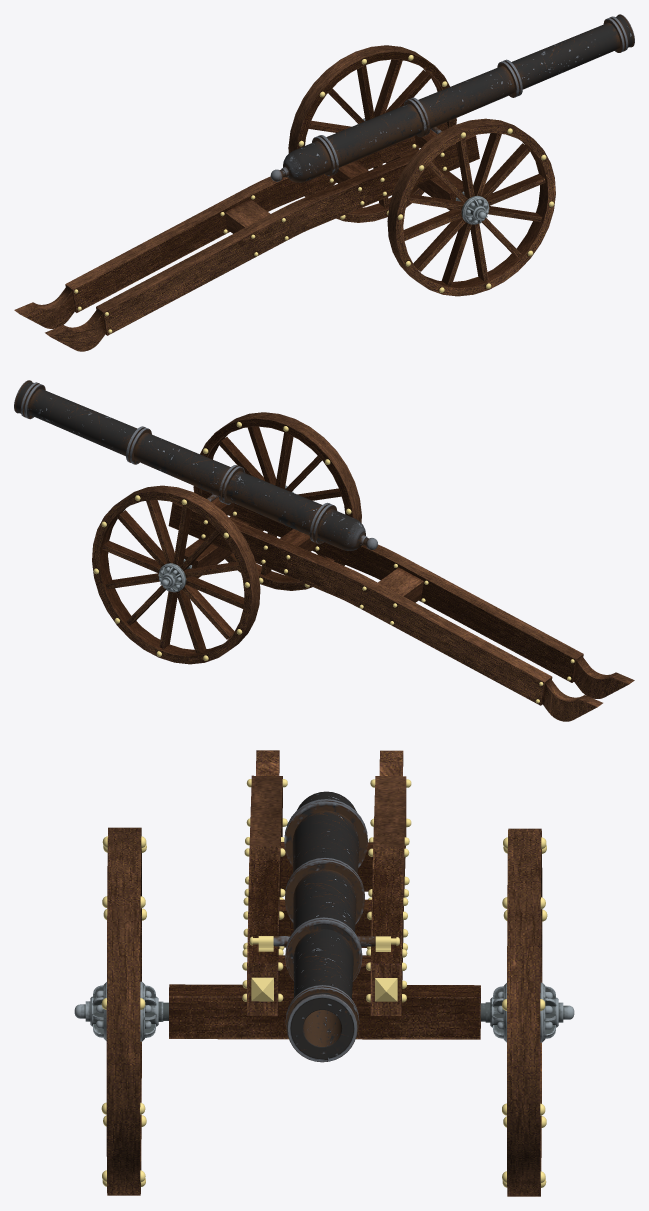
The model's file is Canon_T2.fbx.
3 views of the same model, one above another, from view 1: azimuth 30°, elevation 25°; view 2: azimuth 150°, elevation 25°; view 3: azimuth 270°, elevation 25° (orthographic). The views are drawn at different scales.
Visible parts, largest first — view 1: Canon_1; view 2: Canon_1; view 3: Canon_1.
Part boxes in pixels (<box>): Canon_1: <box>14,14,634,351</box>; Canon_1: <box>14,380,634,721</box>; Canon_1: <box>74,750,574,1196</box>.
Bounding box in the file's own units: 1069 × 327 × 389.
1 material, 1 textured.
